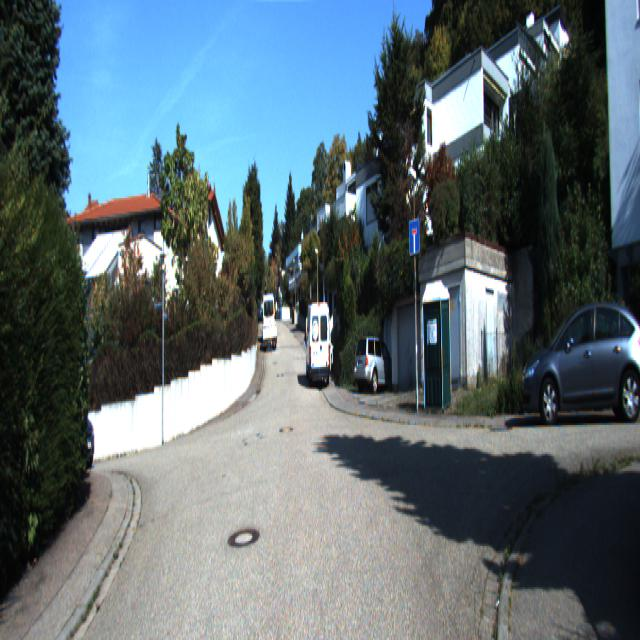Car: (521, 294, 639, 428), (353, 334, 401, 395), (305, 301, 333, 390), (262, 294, 275, 344), (262, 323, 278, 349)
